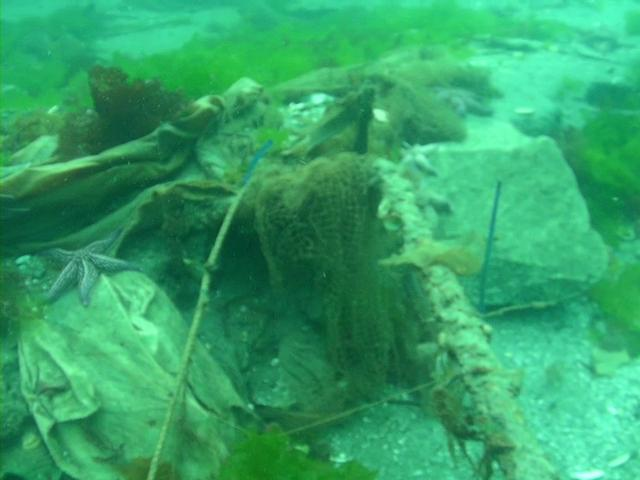fish net: (255, 157, 397, 397)
